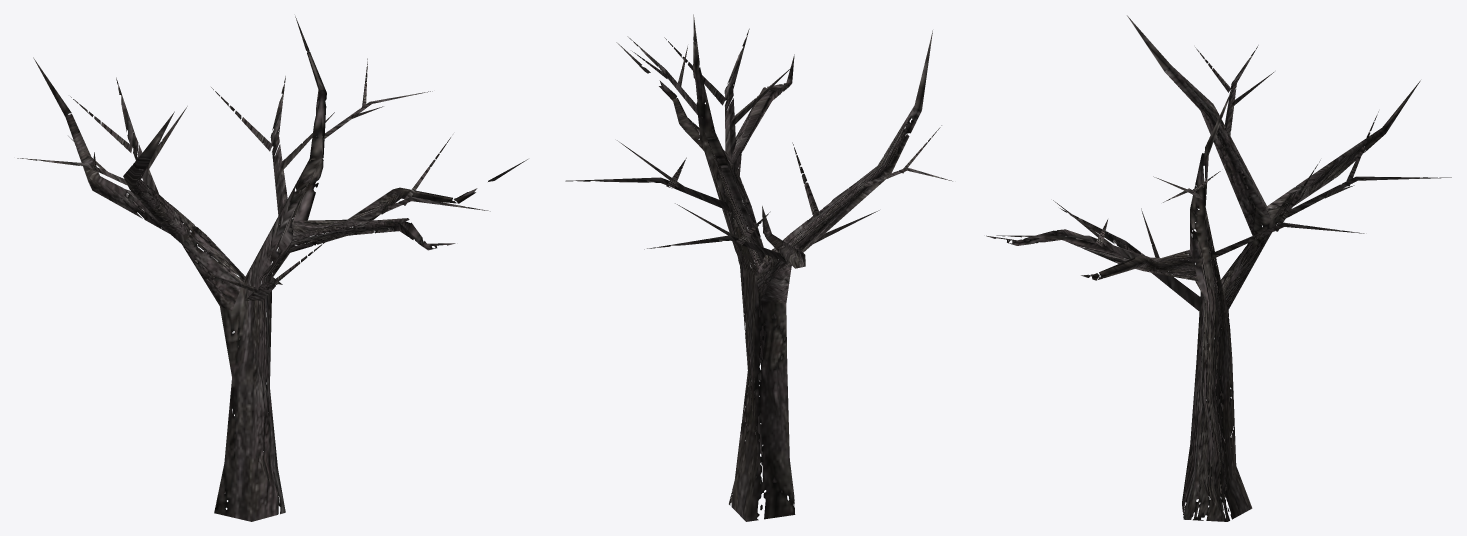
The model's file is Tree03.obj.
The picture shows the model from 3 angles, left to right: view 1: azimuth 30°, elevation 25°; view 2: azimuth 150°, elevation 25°; view 3: azimuth 270°, elevation 25°; orthographic projection. The views are drawn at different scales.
Parts seen in each view (by area): view 1: Mesh_0; view 2: Mesh_0; view 3: Mesh_0.
Part boxes in pixels (x1,y1,x2,y2): Mesh_0: (17,16,527,521); Mesh_0: (565,14,952,521); Mesh_0: (986,15,1451,521).
Size of the model in its own units: 5.05 by 5.38 by 5.05.
Materials: 1 (1 with a texture image).
